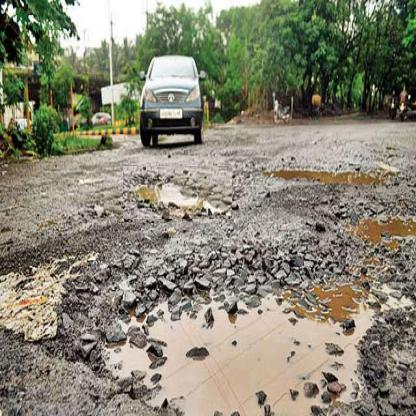pothole_water: (122, 166, 232, 220)
